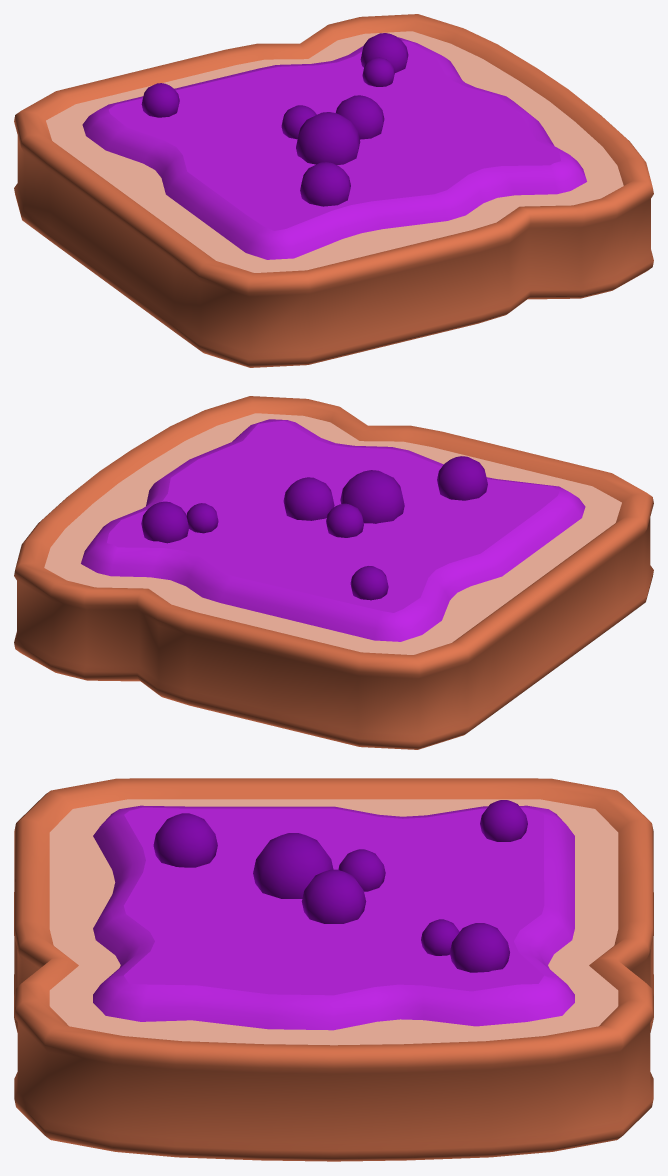
Rendered from Toast_V1_01.fbx.
The picture shows the model from 3 angles, top to bottom: view 1: azimuth 30°, elevation 25°; view 2: azimuth 150°, elevation 25°; view 3: azimuth 270°, elevation 25°; orthographic projection. The views are drawn at different scales.
Visible parts, largest first — view 1: Toast_V1_01; view 2: Toast_V1_01; view 3: Toast_V1_01.
Part boxes in pixels (x1,y1,x2,y2): Toast_V1_01: (14,14,653,367); Toast_V1_01: (14,396,653,749); Toast_V1_01: (14,778,653,1161).
Bounding box in the file's own units: 49.23 × 14 × 47.58.
